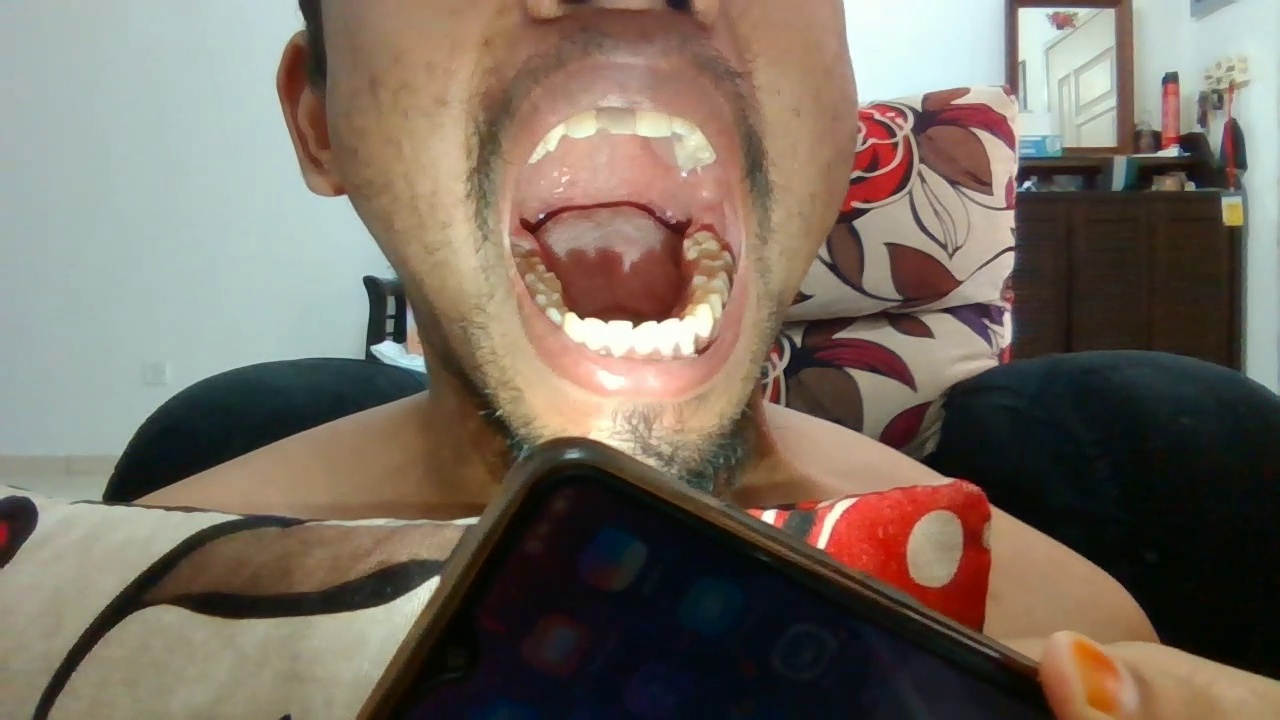1st Molar: (693, 269, 730, 298), (525, 271, 562, 292)
1st Premolar: (684, 303, 713, 337), (546, 306, 562, 324)
2nd Molar: (698, 250, 734, 269), (514, 255, 547, 272)
2nd Premolar: (693, 291, 722, 314), (535, 293, 562, 309)
3rd Molar: (682, 229, 721, 257), (510, 240, 533, 257)
Canine: (562, 310, 584, 343), (680, 316, 697, 357), (542, 123, 566, 151)
Central Incisor: (596, 108, 636, 135), (607, 319, 634, 357), (636, 109, 672, 137), (633, 319, 659, 354)
Lateral Incisor: (564, 110, 597, 139), (584, 315, 607, 352), (659, 318, 680, 357), (672, 116, 696, 137)
